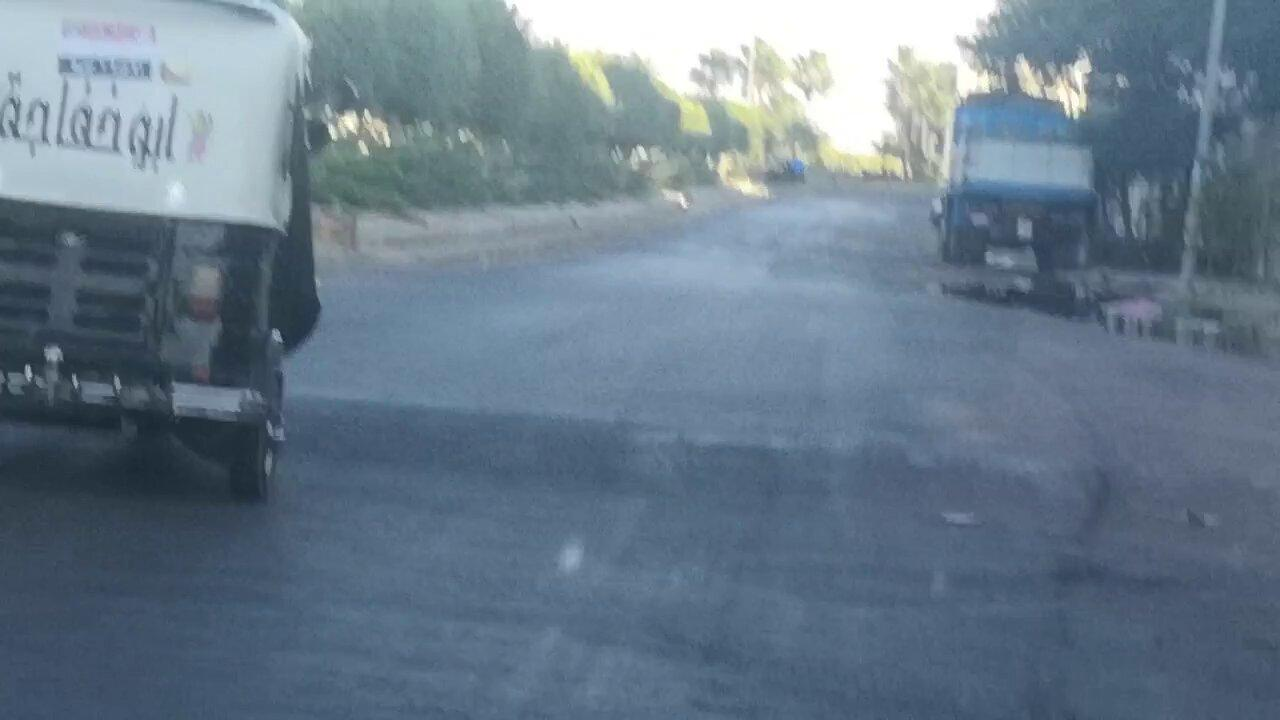Bump: (318, 385, 1272, 562)
